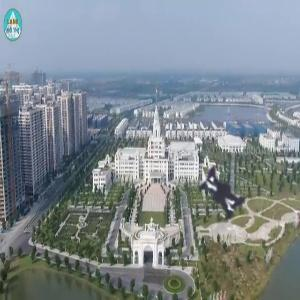drone: (159, 124, 293, 258)
